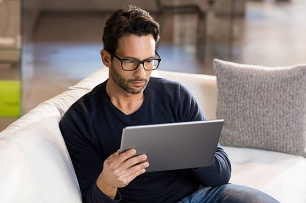male: (104, 21, 160, 95)
